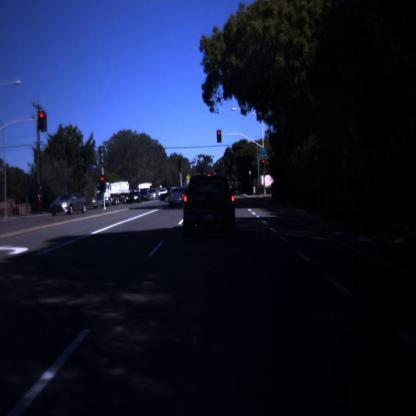trafficlight: (38, 113, 46, 132), (99, 174, 106, 194), (216, 127, 223, 144), (260, 158, 267, 173)
